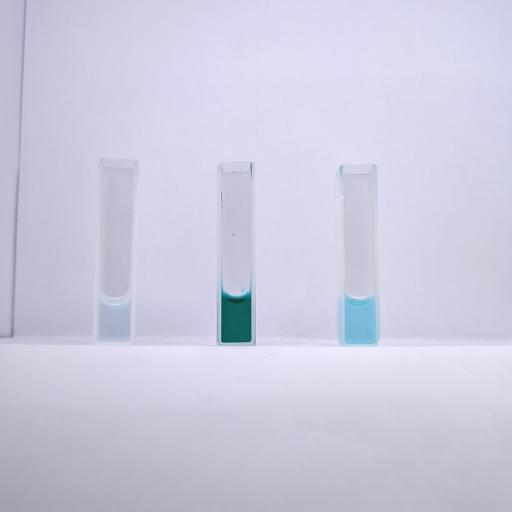cuvette: (92, 155, 139, 345), (214, 159, 258, 347), (338, 162, 382, 346)
liquid: (98, 292, 131, 340), (345, 293, 376, 343), (221, 292, 251, 342)
